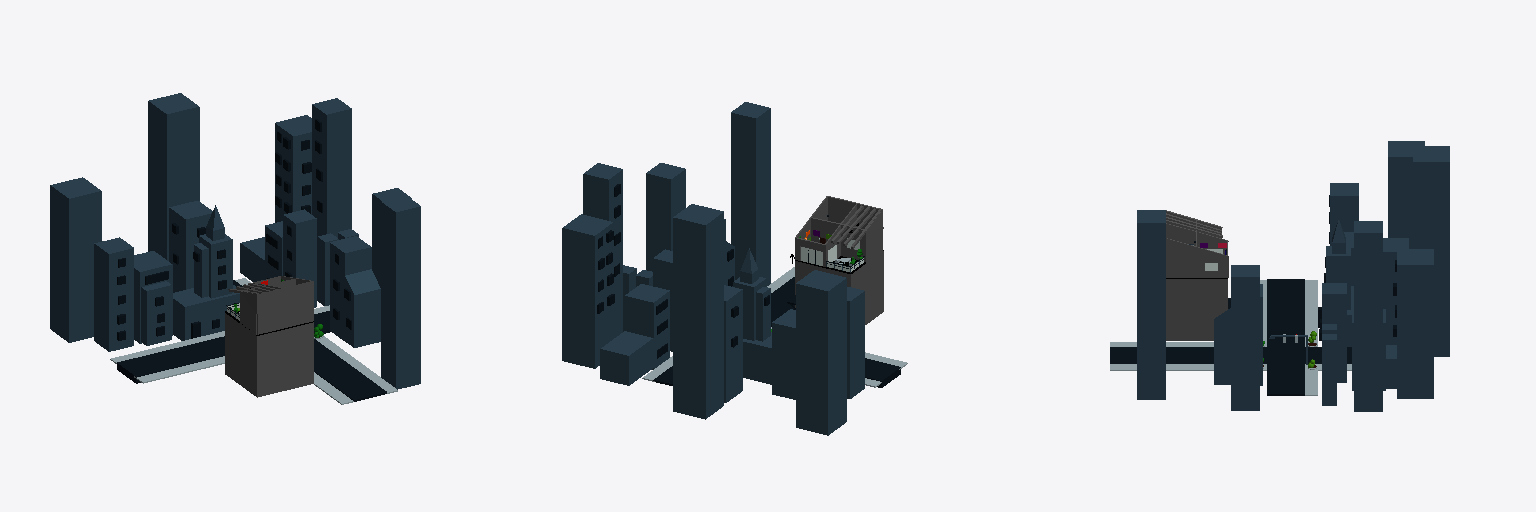
3 views of the same model, side by side, from view 1: azimuth 30°, elevation 25°; view 2: azimuth 150°, elevation 25°; view 3: azimuth 270°, elevation 25° (orthographic).
Visible parts, largest first — view 1: group[number redacted], group[number redacted], group[number redacted], group[number redacted], group[number redacted], group[number redacted], group[number redacted], group[number redacted], group[number redacted], group[number redacted], group[number redacted], group[number redacted] (+14 smaller); view 2: group[number redacted], group[number redacted], group[number redacted], group[number redacted], group[number redacted], group[number redacted], group[number redacted], group[number redacted], group[number redacted], group[number redacted], group[number redacted], group[number redacted] (+8 smaller); view 3: group[number redacted], group[number redacted], group[number redacted], group[number redacted], group[number redacted], group[number redacted], group[number redacted], group[number redacted], group[number redacted], group[number redacted], group[number redacted], group[number redacted] (+6 smaller).
Part boxes in pixels (x1,y1,x2,y2): group[number redacted]: (381, 196, 420, 389); group[number redacted]: (50, 177, 101, 342); group[number redacted]: (148, 93, 199, 260); group[number redacted]: (312, 98, 351, 237); group[number redacted]: (225, 313, 313, 397); group[number redacted]: (94, 237, 133, 351); group[number redacted]: (233, 278, 397, 404); group[number redacted]: (275, 115, 311, 222); group[number redacted]: (345, 269, 380, 347); group[number redacted]: (117, 311, 330, 383); group[number redacted]: (169, 201, 212, 292); group[number redacted]: (257, 281, 311, 334); group[number redacted]: (673, 204, 723, 419); group[number redacted]: (796, 270, 846, 435); group[number redacted]: (562, 214, 613, 368); group[number redacted]: (731, 102, 770, 285); group[number redacted]: (646, 163, 685, 271); group[number redacted]: (583, 163, 622, 337); group[number redacted]: (600, 331, 656, 385); group[number redacted]: (625, 284, 669, 369); group[number redacted]: (772, 309, 795, 399); group[number redacted]: (724, 285, 742, 402); group[number redacted]: (847, 287, 864, 398); group[number redacted]: (865, 229, 882, 323); group[number redacted]: (1397, 249, 1433, 398); group[number redacted]: (1354, 221, 1382, 411); group[number redacted]: (1413, 146, 1449, 356); group[number redacted]: (1137, 210, 1165, 399); group[number redacted]: (1231, 265, 1259, 410); group[number redacted]: (1267, 279, 1304, 395); group[number redacted]: (1166, 279, 1227, 340); group[number redacted]: (1110, 342, 1351, 370); group[number redacted]: (1388, 141, 1424, 248); group[number redacted]: (1322, 283, 1346, 382); group[number redacted]: (1383, 238, 1408, 344); group[number redacted]: (1330, 183, 1358, 245).
Bounding box in the file's own units: 7.02 × 4.97 × 7.79.